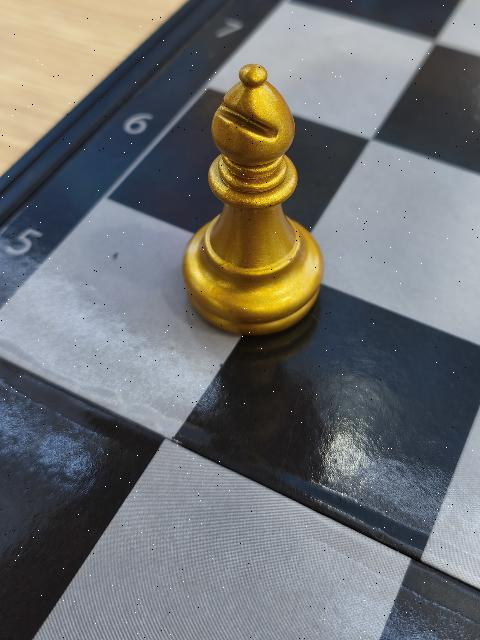black_bishop: (186, 61, 322, 330)
